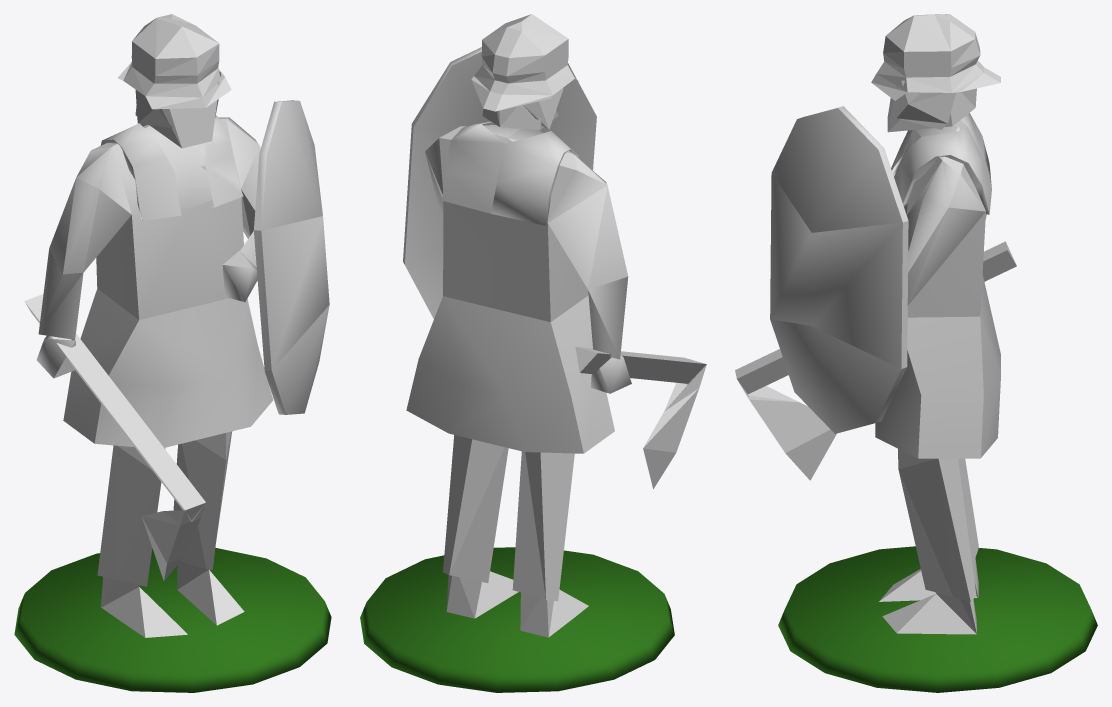
File: greek_axeman.glb
3 renders of one model, left to right at view 1: azimuth 30°, elevation 25°; view 2: azimuth 150°, elevation 25°; view 3: azimuth 270°, elevation 25°, orthographic.
Parts seen in each view (by area): view 1: greek_axeman; view 2: greek_axeman; view 3: greek_axeman.
Boxes of the visible parts, x1=… form: greek_axeman: x1=14, y1=14, x2=331, y2=692; greek_axeman: x1=360, y1=14, x2=706, y2=692; greek_axeman: x1=735, y1=14, x2=1097, y2=692.
Bounding box in the file's own units: 2 × 4.2 × 2.27.
